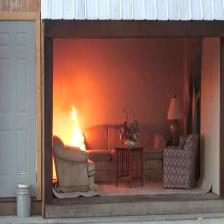fire: (60, 101, 92, 154)
